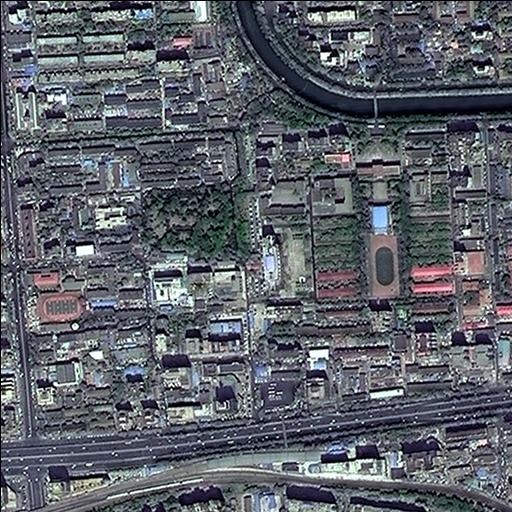school: (21, 266, 86, 331)
